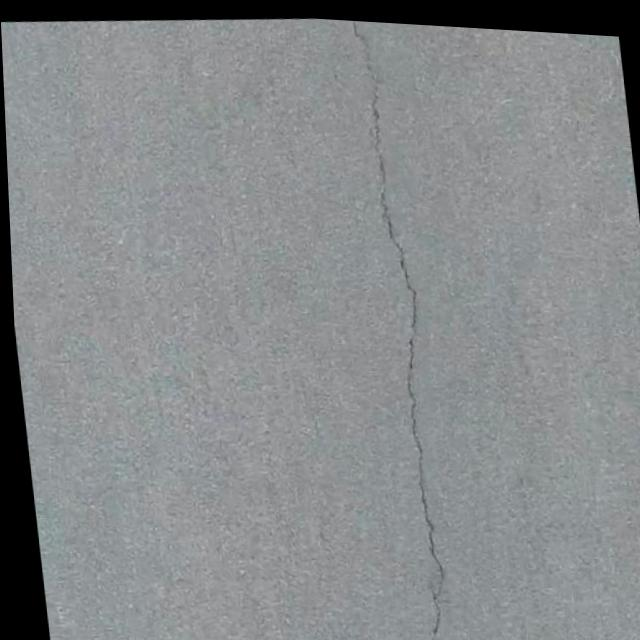Crack: (326, 15, 463, 640)
